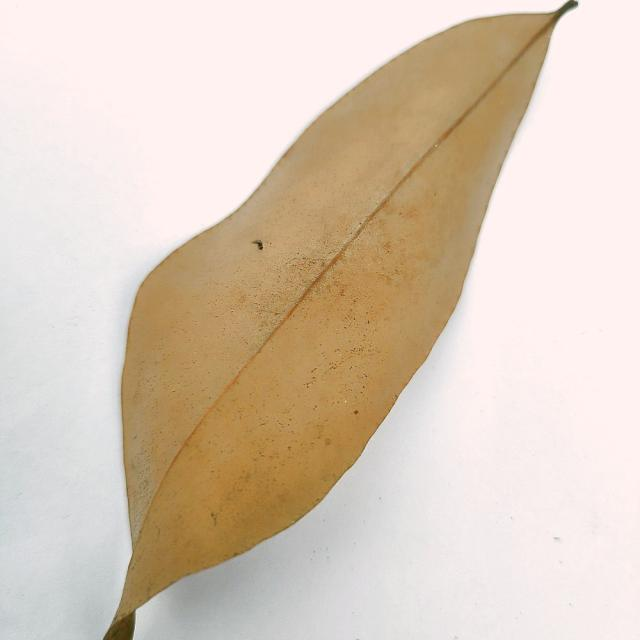Dry_Leaf-Lychee: (102, 0, 579, 639)
